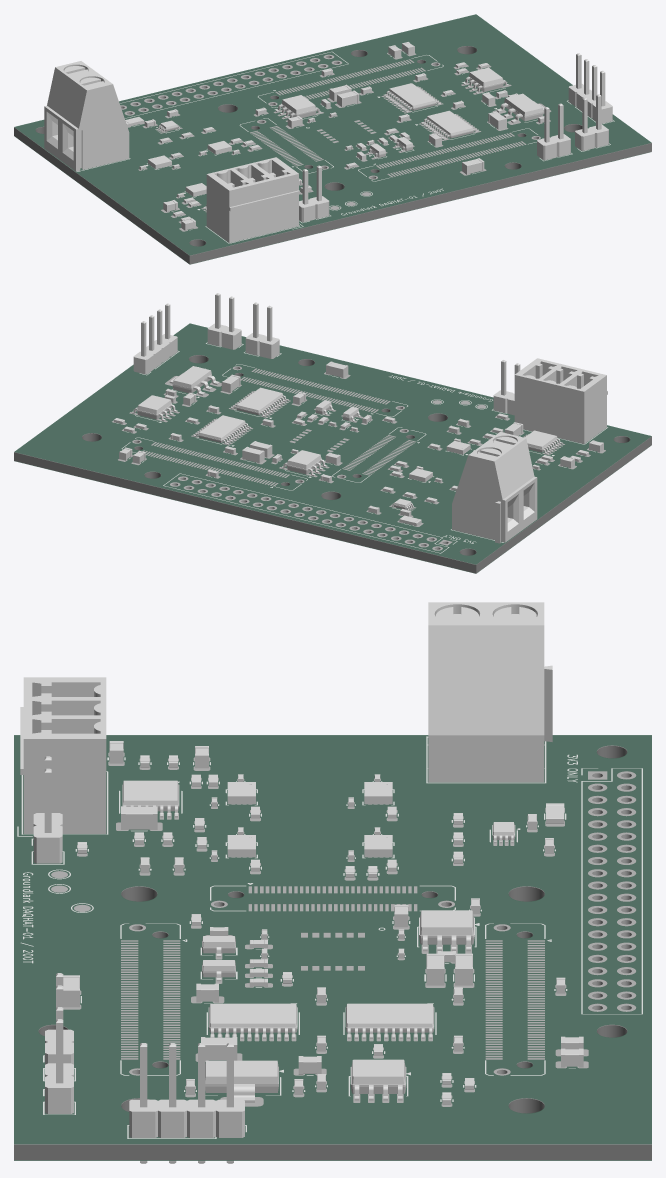
File: daqhat-01.glb
The picture shows the model from 3 angles, top to bottom: view 1: azimuth 30°, elevation 25°; view 2: azimuth 150°, elevation 25°; view 3: azimuth 270°, elevation 25°; orthographic projection. The views are drawn at different scales.
Visible parts, largest first — view 1: =>[0:1:1:25], =>[0:1:1:27], J83, =>[0:1:1:22], J90, =>[0:1:1:23], J4, JP81, JP80, JP1, U41, U42 (+4 smaller); view 2: =>[0:1:1:25], =>[0:1:1:27], =>[0:1:1:22], J83, J90, =>[0:1:1:23], J4, JP81, JP80, U42, U41, U40 (+5 smaller); view 3: =>[0:1:1:25], =>[0:1:1:27], J83, =>[0:1:1:22], J90, J4, =>[0:1:1:23], U41, U42, U40, U1, U43 (+5 smaller).
Boxes of the visible parts, bbox=[...] form: =>[0:1:1:25]: bbox=[14, 14, 651, 255]; =>[0:1:1:27]: bbox=[14, 15, 651, 264]; J83: bbox=[44, 61, 129, 171]; =>[0:1:1:22]: bbox=[120, 49, 551, 231]; J90: bbox=[206, 157, 299, 242]; =>[0:1:1:23]: bbox=[77, 51, 614, 243]; J4: bbox=[568, 53, 612, 123]; JP81: bbox=[575, 94, 608, 150]; JP80: bbox=[537, 103, 570, 160]; JP1: bbox=[299, 165, 329, 222]; U41: bbox=[383, 83, 441, 112]; U42: bbox=[421, 110, 478, 140]; =>[0:1:1:25]: bbox=[14, 323, 651, 564]; =>[0:1:1:27]: bbox=[14, 324, 651, 573]; =>[0:1:1:22]: bbox=[112, 366, 605, 550]; J83: bbox=[452, 432, 537, 543]; J90: bbox=[514, 358, 607, 443]; =>[0:1:1:23]: bbox=[116, 342, 607, 553]; J4: bbox=[133, 303, 177, 374]; JP81: bbox=[207, 293, 241, 349]; JP80: bbox=[245, 302, 279, 358]; U42: bbox=[230, 387, 288, 417]; U41: bbox=[193, 415, 251, 444]; U40: bbox=[169, 366, 219, 395]; =>[0:1:1:25]: bbox=[14, 735, 651, 1144]; =>[0:1:1:27]: bbox=[14, 736, 651, 1160]; J83: bbox=[428, 602, 552, 782]; =>[0:1:1:22]: bbox=[51, 753, 636, 1106]; J90: bbox=[20, 677, 106, 833]; J4: bbox=[129, 1043, 244, 1163]; =>[0:1:1:23]: bbox=[17, 736, 642, 1138]; U41: bbox=[345, 1003, 434, 1038]; U42: bbox=[208, 1003, 297, 1038]; U40: bbox=[205, 1060, 278, 1102]; U1: bbox=[350, 1059, 406, 1100]; U43: bbox=[419, 910, 474, 951].
Size of the model in its own units: 0.085 by 0.0173 by 0.056.
